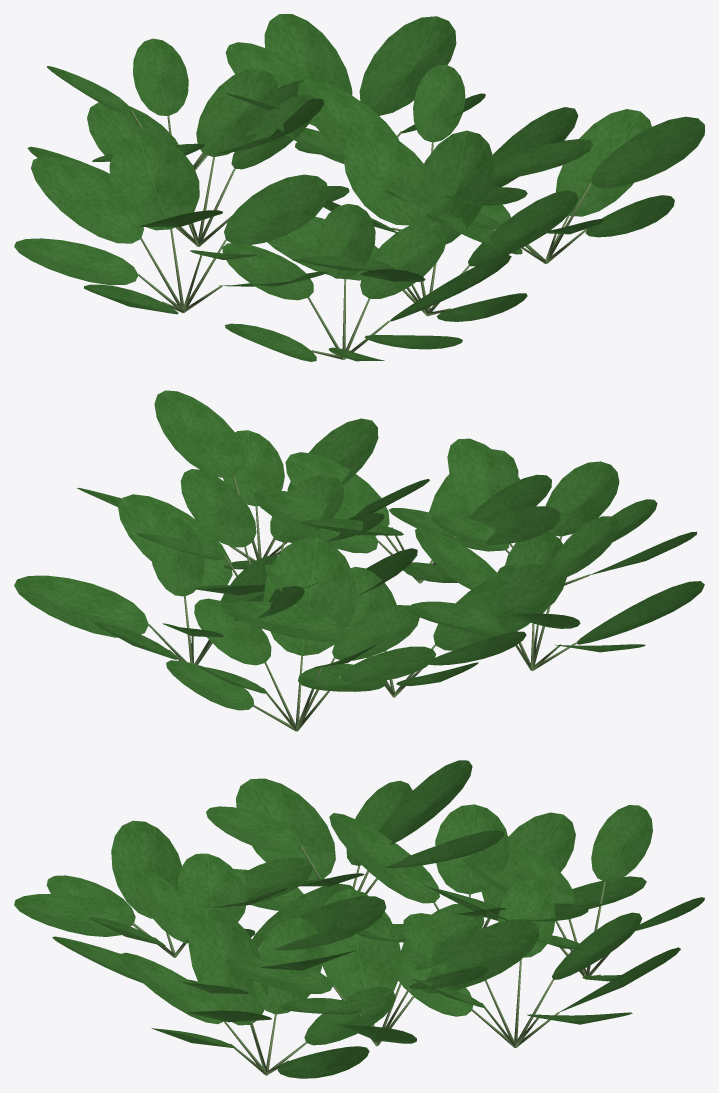
Rendered from Woodland_Forb_Rosette_01_LOD0.fbx.
The picture shows the model from 3 angles, top to bottom: view 1: azimuth 30°, elevation 25°; view 2: azimuth 150°, elevation 25°; view 3: azimuth 270°, elevation 25°; orthographic projection. The views are drawn at different scales.
Parts seen in each view (by area): view 1: Woodland_Forb_Rosette_01_LOD0_Mesh; view 2: Woodland_Forb_Rosette_01_LOD0_Mesh; view 3: Woodland_Forb_Rosette_01_LOD0_Mesh.
Boxes of the visible parts, x1,y1,x2,y2 form: Woodland_Forb_Rosette_01_LOD0_Mesh: [14, 14, 704, 361]; Woodland_Forb_Rosette_01_LOD0_Mesh: [14, 390, 704, 731]; Woodland_Forb_Rosette_01_LOD0_Mesh: [14, 760, 704, 1078].
Size of the model in its own units: 69.58 by 14.24 by 70.8.
Materials: 2 (1 with a texture image).
